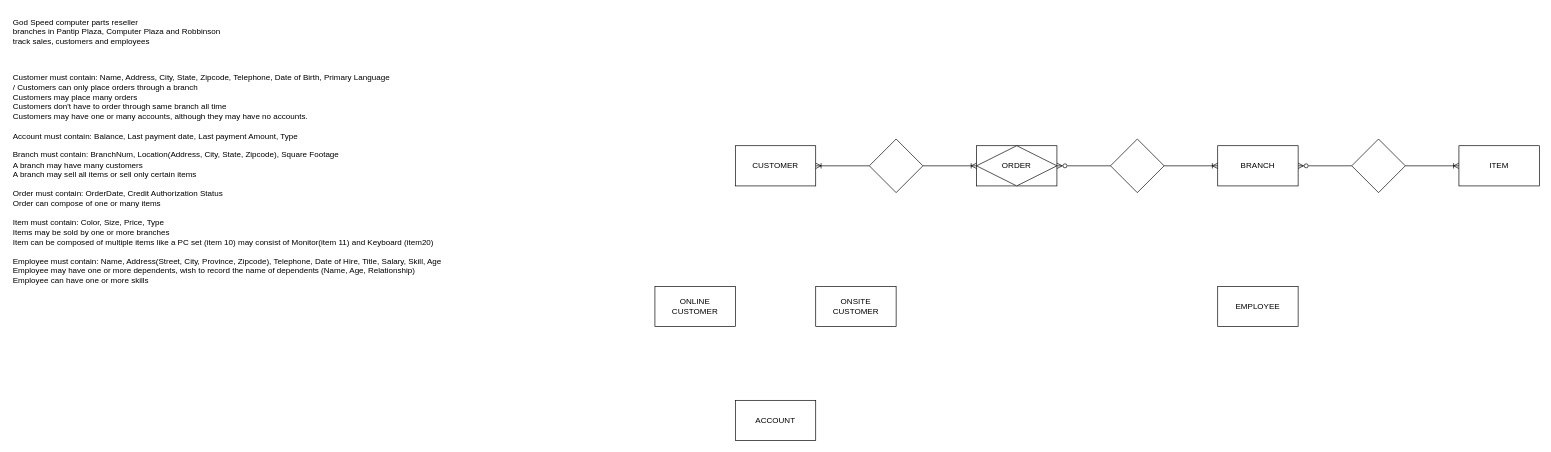
The diagram is 1551 pixels wide and 452 high, and some of its shapes have lost their labels. Here are the shapes that lost their labels. From the top down, the centre of each, then its label:
At (896,165): "place".
At (1137,165): "get".
At (1378,165): "have".
